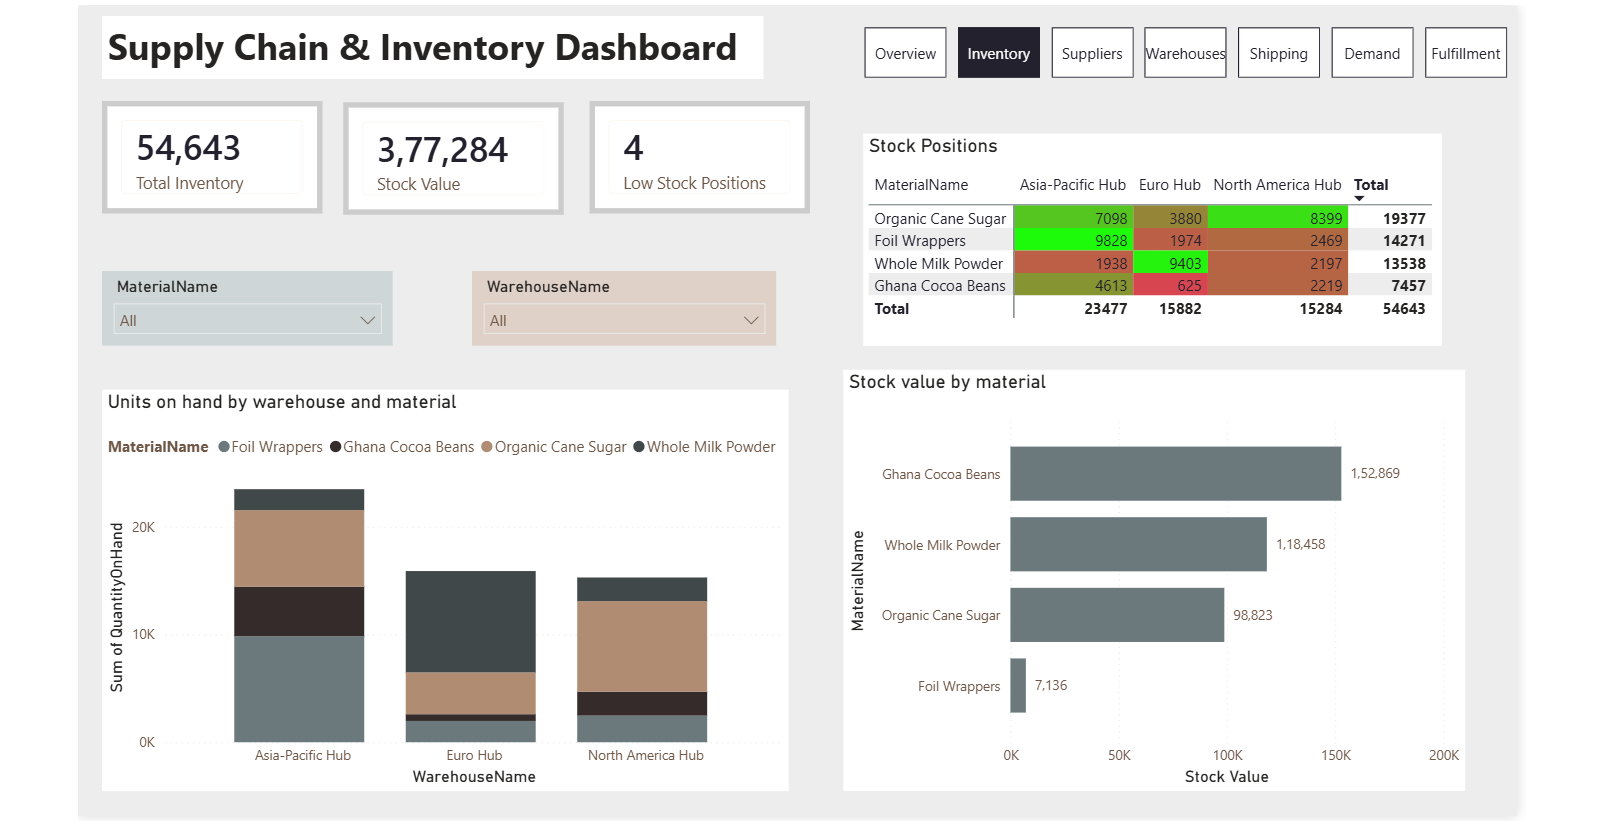

The page's visual inventory and layout, read from the dashboard file:
{"tool":"powerbi","page":{"name":"Inventory","canvas":[1280,720],"ordinal":1},"visuals":[{"type":"slicer","fields":{"Values":["warehouses_clean.WarehouseName"]},"box":[351.6,235.8,270.7,66.3],"z":0},{"type":"slicer","fields":{"Values":["raw_materials_clean.MaterialName"]},"box":[22.1,235.8,258.7,66.3],"z":1000},{"type":"cardVisual","fields":{"Data":["sales_orders_clean.Total Inventory"]},"box":[21.7,84.8,196,100],"z":2000},{"type":"cardVisual","fields":{"Data":["carriers_clean.Stock Value"]},"box":[237,85,196,100],"z":3000},{"type":"cardVisual","fields":{"Data":["sales_orders_clean.Low Stock Positions"]},"box":[455.4,84.8,196,100],"z":4000},{"type":"columnChart","title":"Units on hand by warehouse and material","fields":{"Category":["warehouses_clean.WarehouseName"],"Y":["Sum(warehouse_inventory_clean.QuantityOnHand)"],"Series":["raw_materials_clean.MaterialName"]},"box":[22.1,341.1,610.5,356.8],"z":5000},{"type":"clusteredBarChart","title":"Stock value by material","fields":{"Category":["raw_materials_clean.MaterialName"],"Y":["carriers_clean.Stock Value"]},"box":[681.1,323.2,552.6,374.7],"z":6000},{"type":"pivotTable","title":"Stock Positions","fields":{"Rows":["raw_materials_clean.MaterialName"],"Columns":["warehouses_clean.WarehouseName"],"Values":["Sum(warehouse_inventory_clean.QuantityOnHand)"]},"box":[699.4,113.3,514.4,189.1],"z":7000},{"type":"pageNavigator","box":[700.2,18.9,575,45.7],"z":8000},{"type":"textbox","box":[22.1,8.4,587.7,55.7],"z":9000}]}

Visuals, with their boxes on the page's 1280x720 design canvas (x1, y1, x2, y2). These are canvas units, not pixel positions in the 1609x821 screenshot, which may show the page scaled, cropped or inside an application window:
slicer - warehouses_clean.WarehouseName: BBox(352, 236, 622, 302)
slicer - raw_materials_clean.MaterialName: BBox(22, 236, 281, 302)
cardVisual - sales_orders_clean.Total Inventory: BBox(22, 85, 218, 185)
cardVisual - carriers_clean.Stock Value: BBox(237, 85, 433, 185)
cardVisual - sales_orders_clean.Low Stock Positions: BBox(455, 85, 651, 185)
"Units on hand by warehouse and material" columnChart: BBox(22, 341, 633, 698)
"Stock value by material" clusteredBarChart: BBox(681, 323, 1234, 698)
"Stock Positions" pivotTable: BBox(699, 113, 1214, 302)
pageNavigator: BBox(700, 19, 1275, 65)
textbox: BBox(22, 8, 610, 64)
